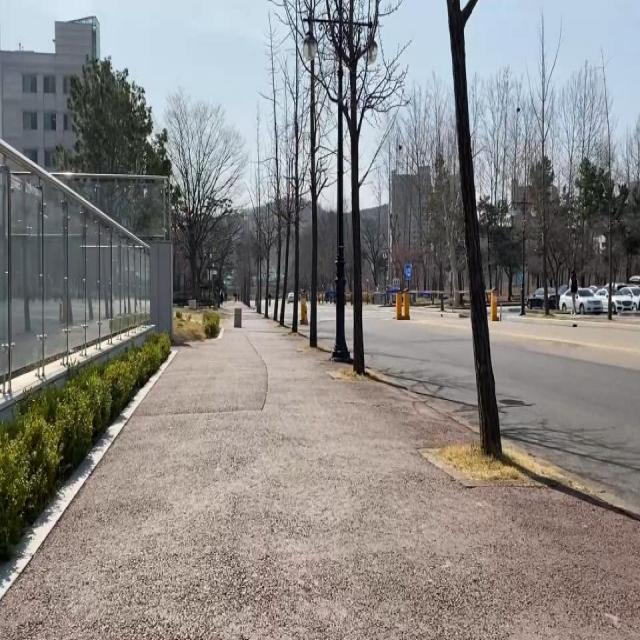sidewalk: (0, 308, 640, 638)
